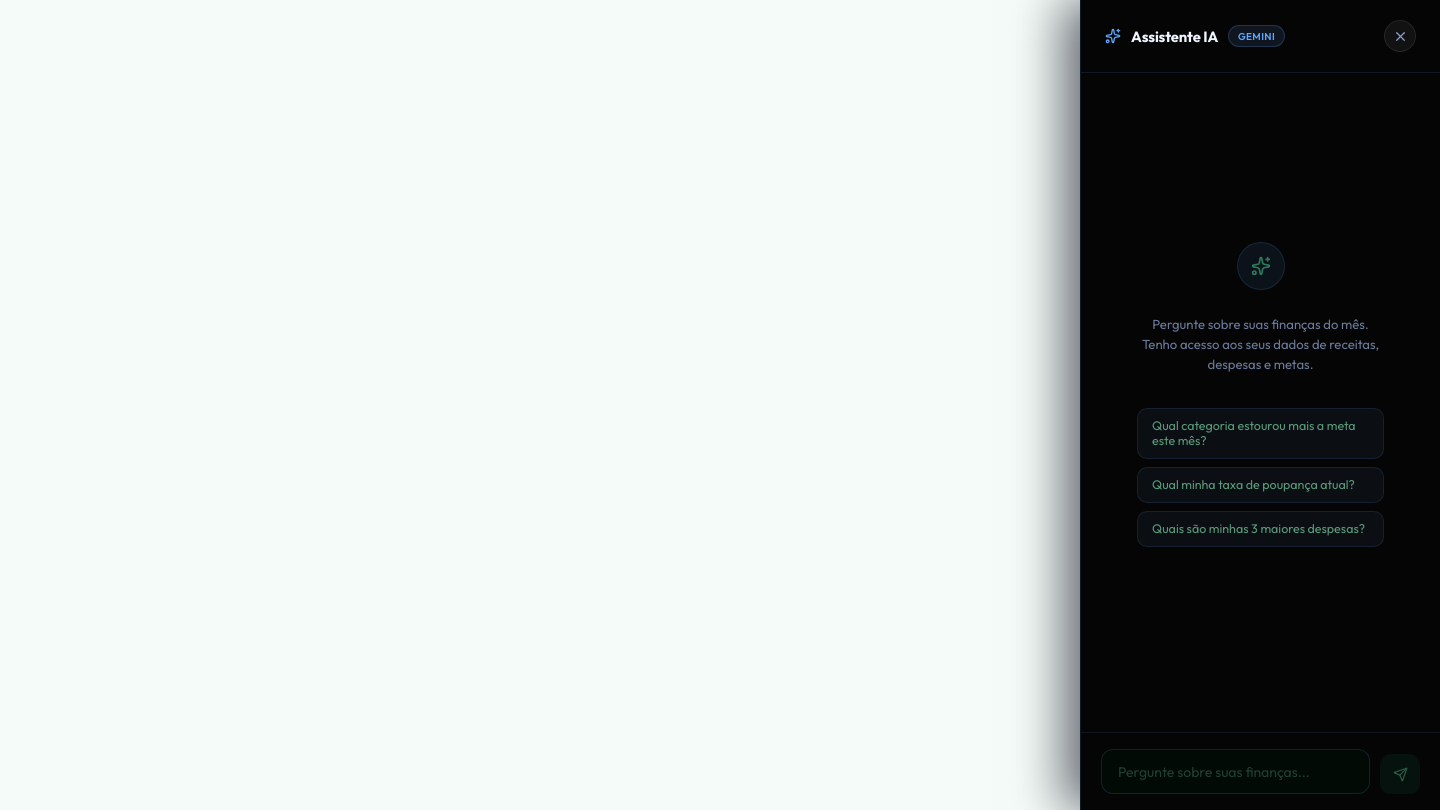
Test: AIAdvisor — campo de entrada › botão de enviar é habilitado quando o usuário digita algo
The width and height of the screenshot is (1440, 810).
Type "Olá" into the text box named "mensagem para o assistente" at [1236, 772], box x1=1101 y1=749 x2=1370 y2=794
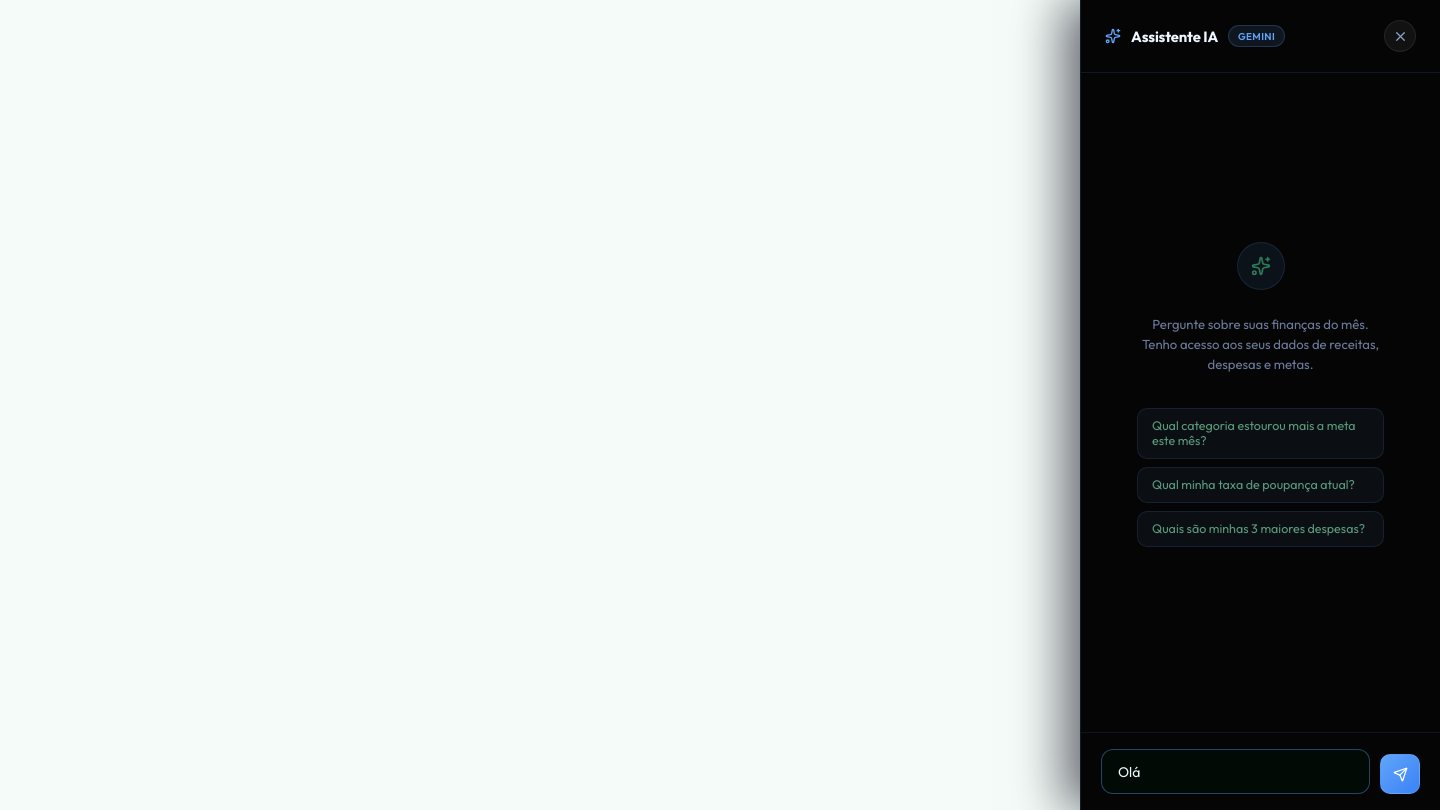
Expected: the button named "enviar mensagem" is enabled, x1=1380 y1=754 x2=1420 y2=794
